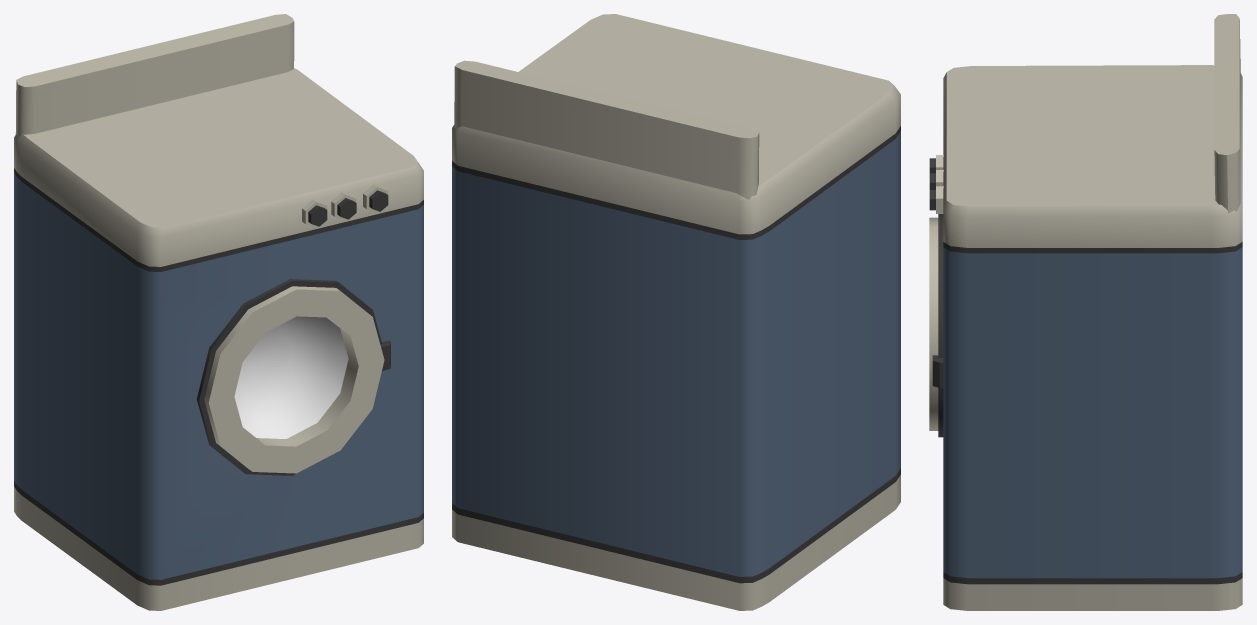
The model's file is WashingMachine_01.fbx.
3 renders of one model, left to right at view 1: azimuth 30°, elevation 25°; view 2: azimuth 150°, elevation 25°; view 3: azimuth 270°, elevation 25°, orthographic. The views are drawn at different scales.
Parts seen in each view (by area): view 1: WashingMachine_01, WashingMachine_01_Door; view 2: WashingMachine_01; view 3: WashingMachine_01, WashingMachine_01_Door.
Part boxes in pixels (x1=…): WashingMachine_01: x1=14, y1=14, x2=423, y2=610; WashingMachine_01_Door: x1=204, y1=286, x2=384, y2=473; WashingMachine_01: x1=452, y1=14, x2=900, y2=610; WashingMachine_01: x1=929, y1=14, x2=1242, y2=610; WashingMachine_01_Door: x1=929, y1=217, x2=938, y2=430.
Size of the model in its own units: 0.75 by 1.13 by 0.6846.
